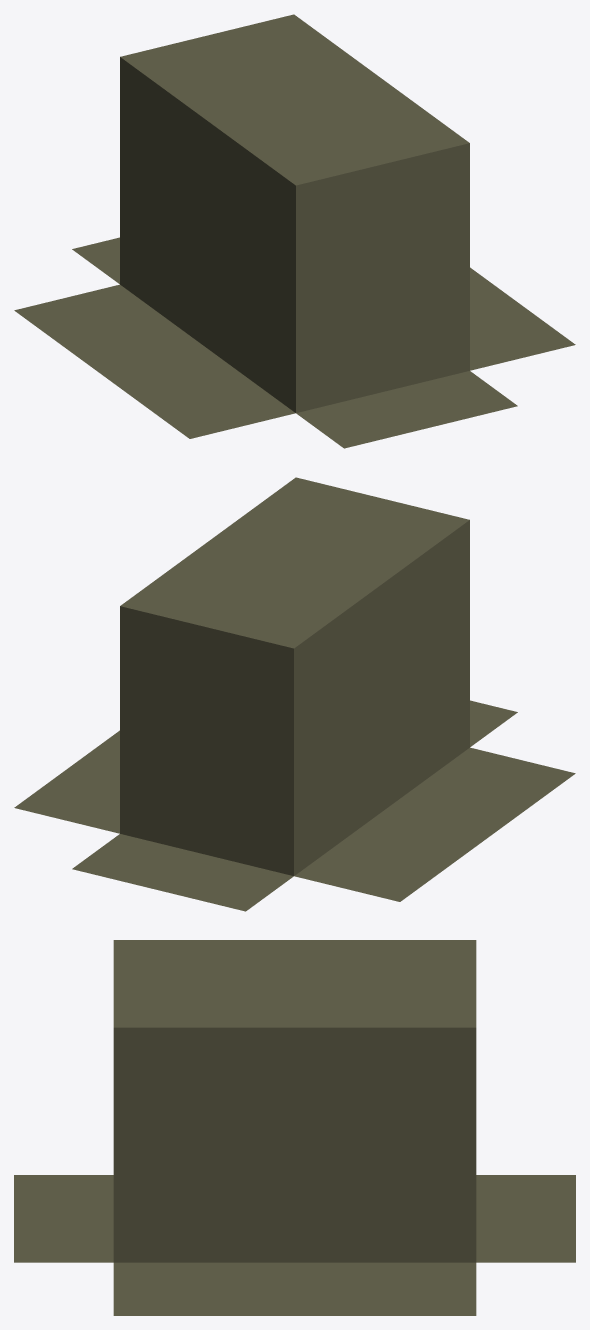
The model's file is Secret_box.fbx.
3 renders of one model, top to bottom at view 1: azimuth 30°, elevation 25°; view 2: azimuth 150°, elevation 25°; view 3: azimuth 270°, elevation 25°, orthographic. The views are drawn at different scales.
Visible parts, largest first — view 1: Secret_box; view 2: Secret_box; view 3: Secret_box.
Boxes of the visible parts, bbox=[...] form: Secret_box: bbox=[14, 14, 575, 448]; Secret_box: bbox=[14, 477, 575, 911]; Secret_box: bbox=[14, 940, 575, 1315].
Size of the model in its own units: 88.74 by 50 by 108.
